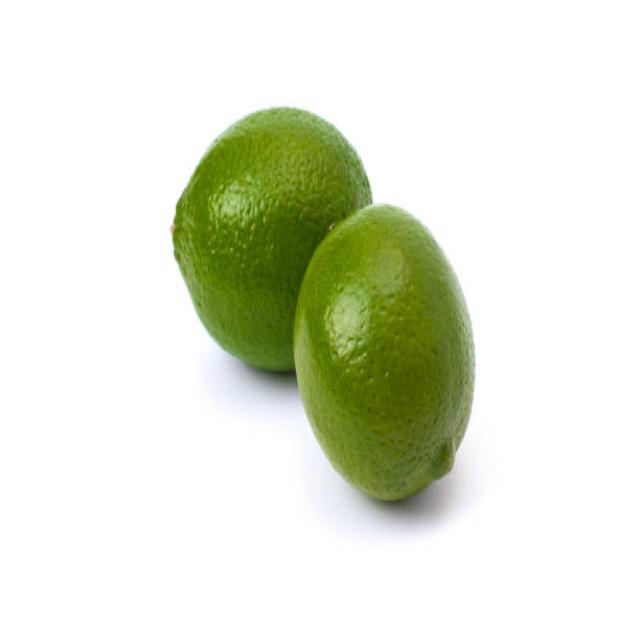Unripe: (296, 202, 477, 502)
